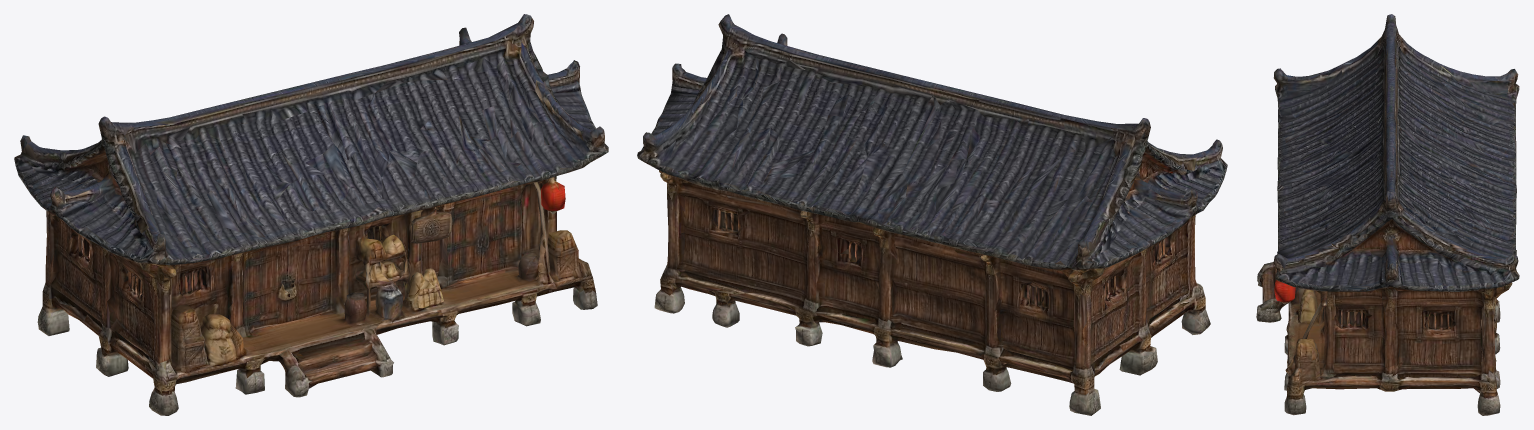
Rendered from armazem.glb.
3 views of the same model, side by side, from view 1: azimuth 30°, elevation 25°; view 2: azimuth 150°, elevation 25°; view 3: azimuth 270°, elevation 25° (orthographic). The views are drawn at different scales.
Visible parts, largest first — view 1: armazem; view 2: armazem; view 3: armazem.
Part boxes in pixels (box(x1,y1,x2,y2)): armazem: box(14, 14, 608, 415); armazem: box(637, 14, 1227, 415); armazem: box(1256, 14, 1519, 415).
Size of the model in its own units: 10.8 by 5 by 5.38.
1 material, 1 textured.
